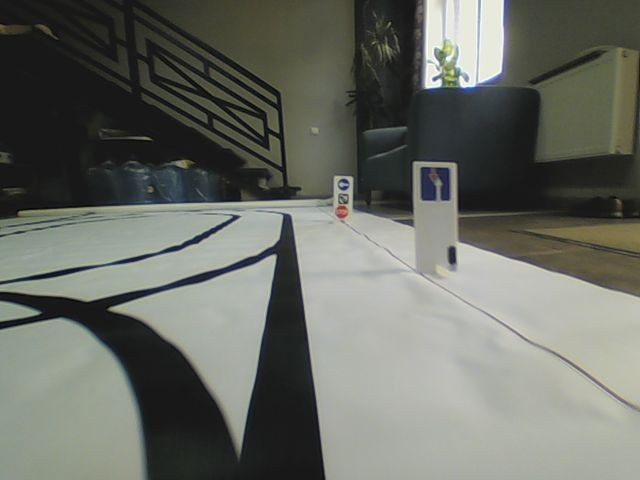priority_movement: (419, 167, 453, 200)
